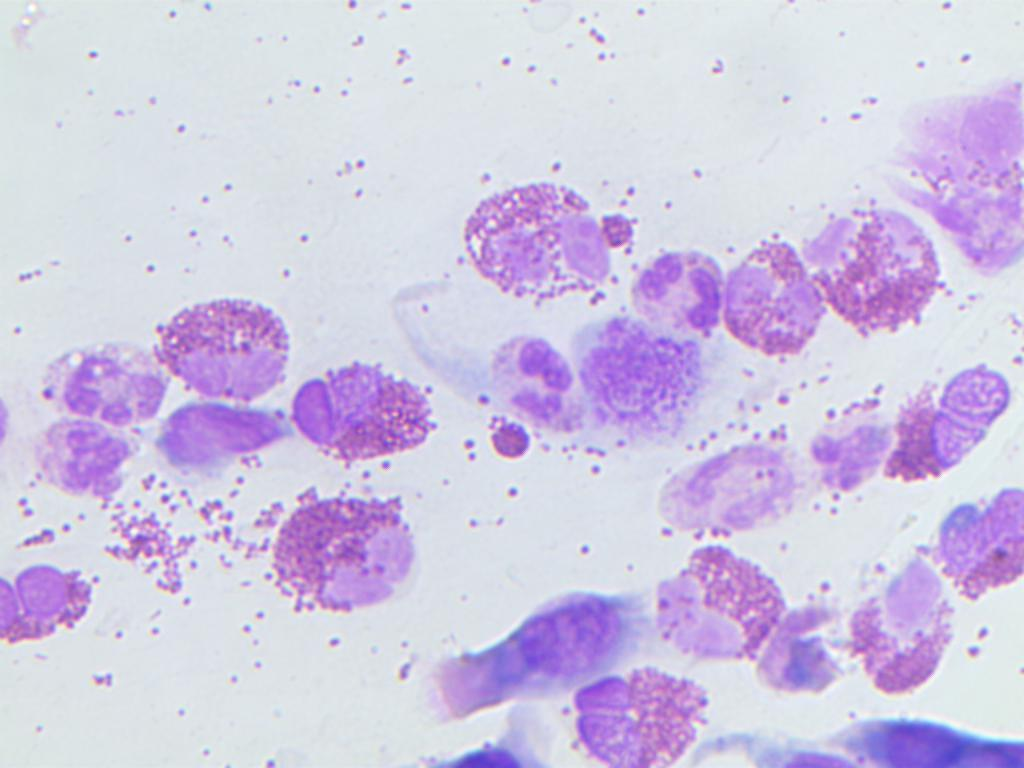artifact: (913, 88, 1024, 278), (644, 443, 802, 540), (801, 711, 1024, 768), (160, 396, 284, 472), (478, 423, 547, 470)
ciliated: (430, 562, 616, 730)
eosinophil: (231, 481, 434, 625), (452, 167, 613, 308), (140, 265, 301, 406), (289, 342, 450, 483), (824, 544, 959, 701), (643, 540, 784, 674), (545, 662, 717, 767), (722, 210, 828, 373), (890, 358, 1015, 493), (824, 207, 946, 333), (0, 540, 110, 672), (924, 492, 1024, 604), (809, 417, 889, 501)
neutrophil: (35, 342, 162, 426), (477, 327, 576, 429), (20, 417, 137, 502), (629, 243, 721, 341)
